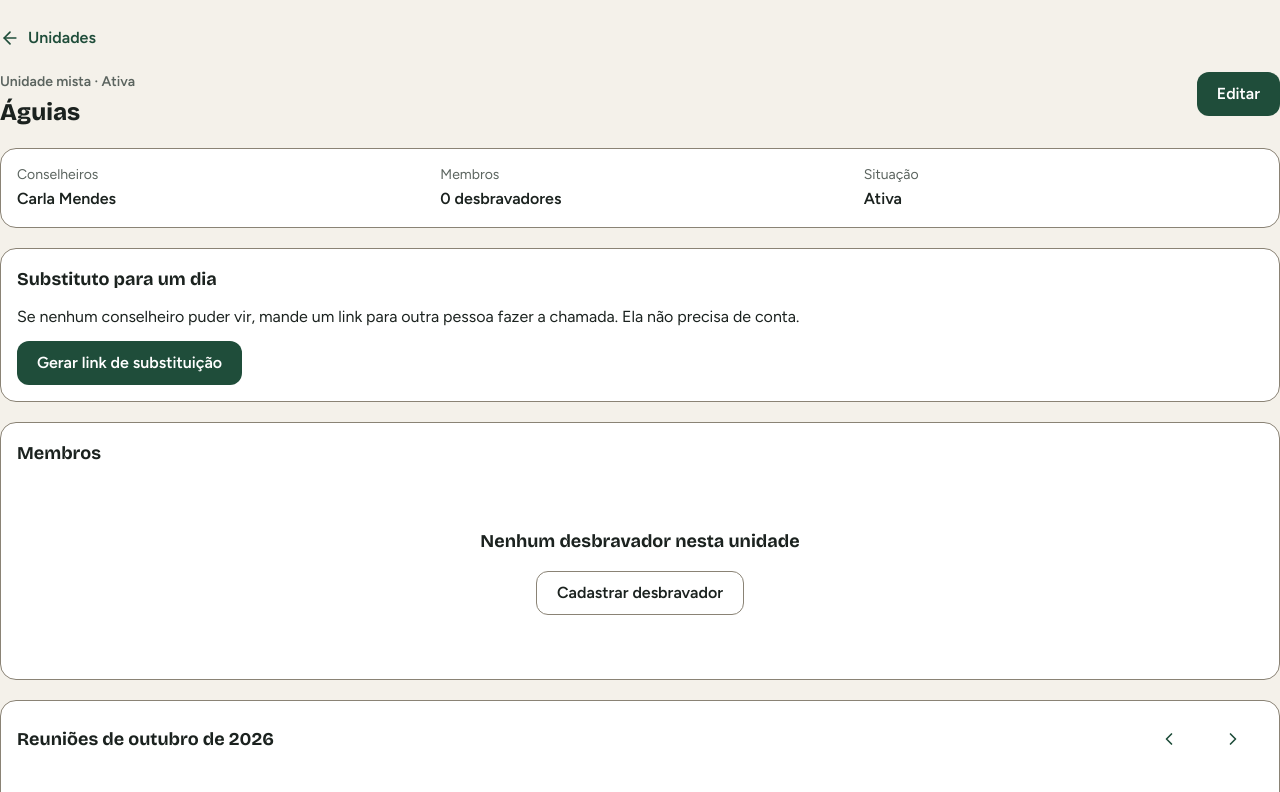
Test: A2 · escolher o dia › lista os dias com a próxima reunião marcada, e o botão diz o dia escolhido
Click the link "Gerar link de substituição". click: (130, 363)
box: [17,341,242,385]
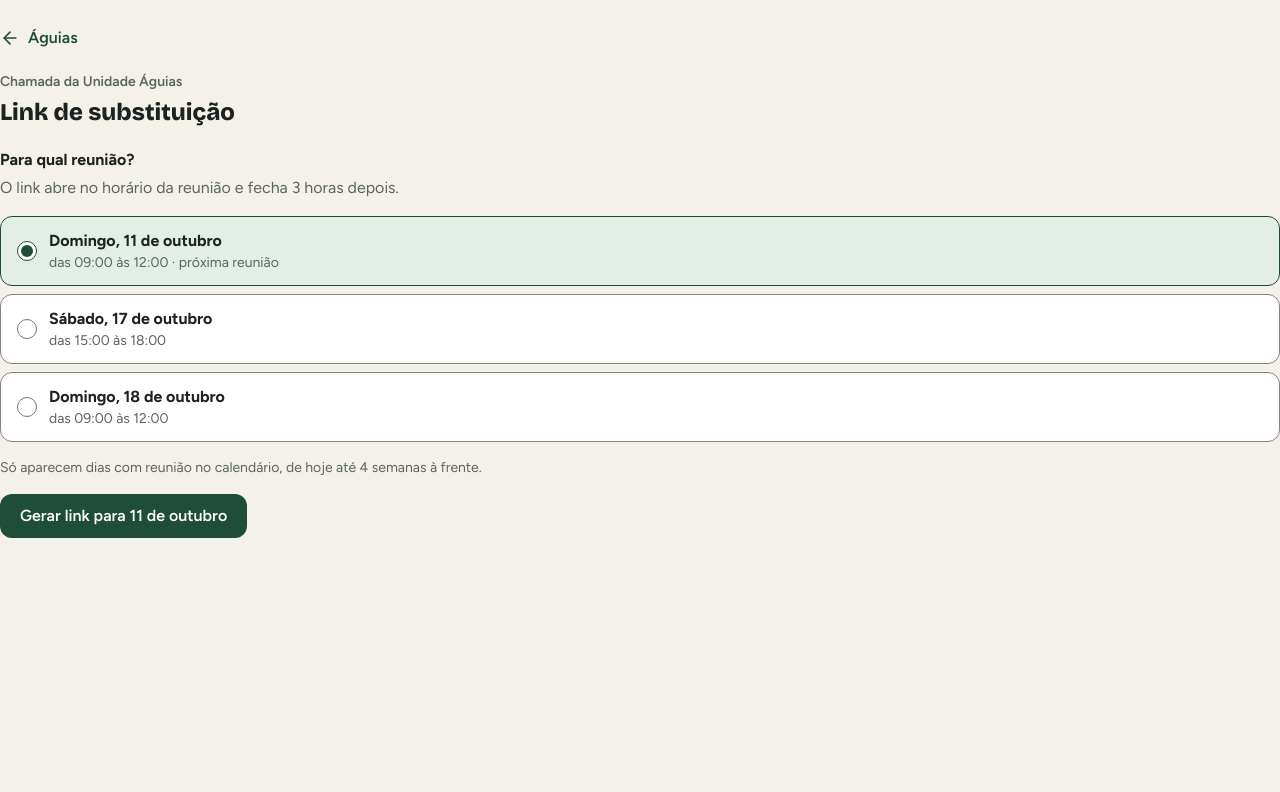
Now the heading "Link de substituição" is shown, box [0,96,235,128]
Now the number of radio buttons is 3
Now the radio button labelled "Domingo, 11 de outubro das 09:00 às 12:00 · próxima reunião" is checked, box [17,241,37,261]
Click the radio button labelled "Sábado, 17 de outubro das 15:00 às 18:00". click: (27, 329)
box: [17,319,37,339]
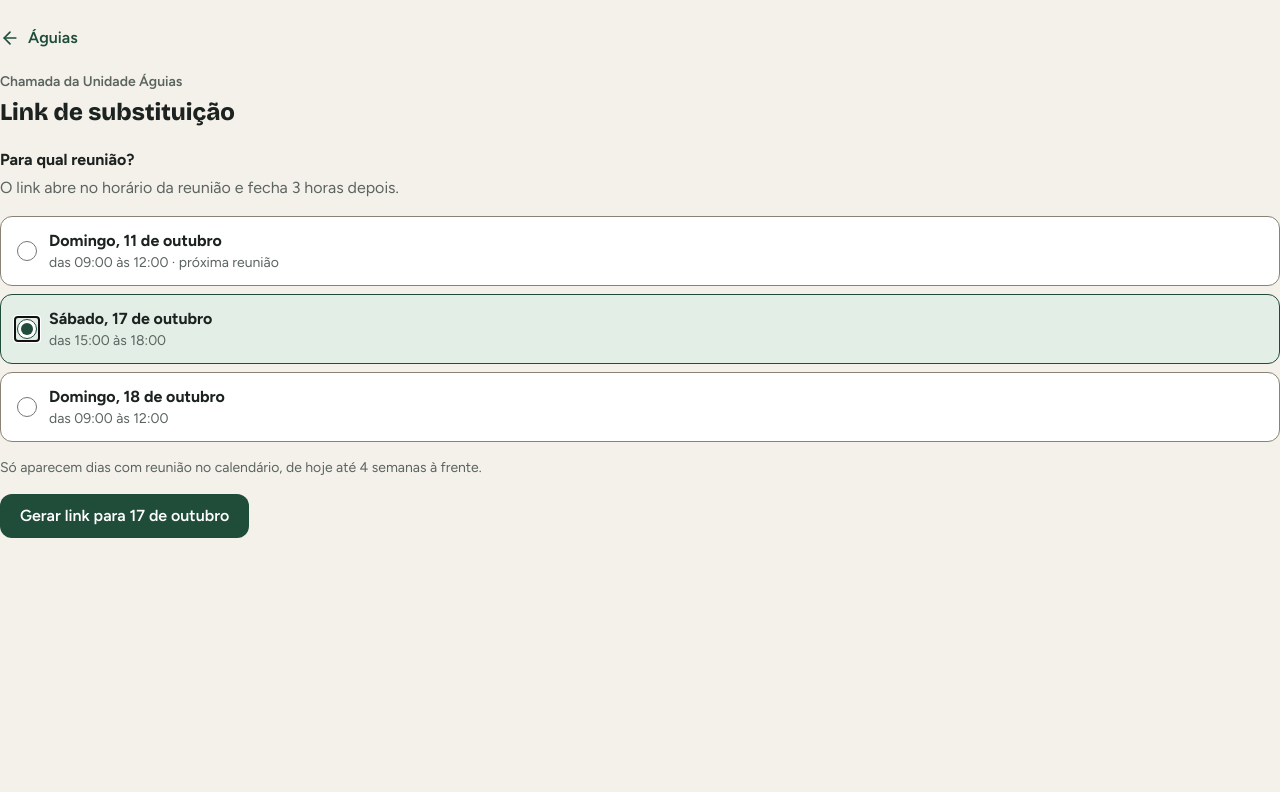
Now the button "Gerar link para 17 de outubro" is shown, box [0,494,249,538]
